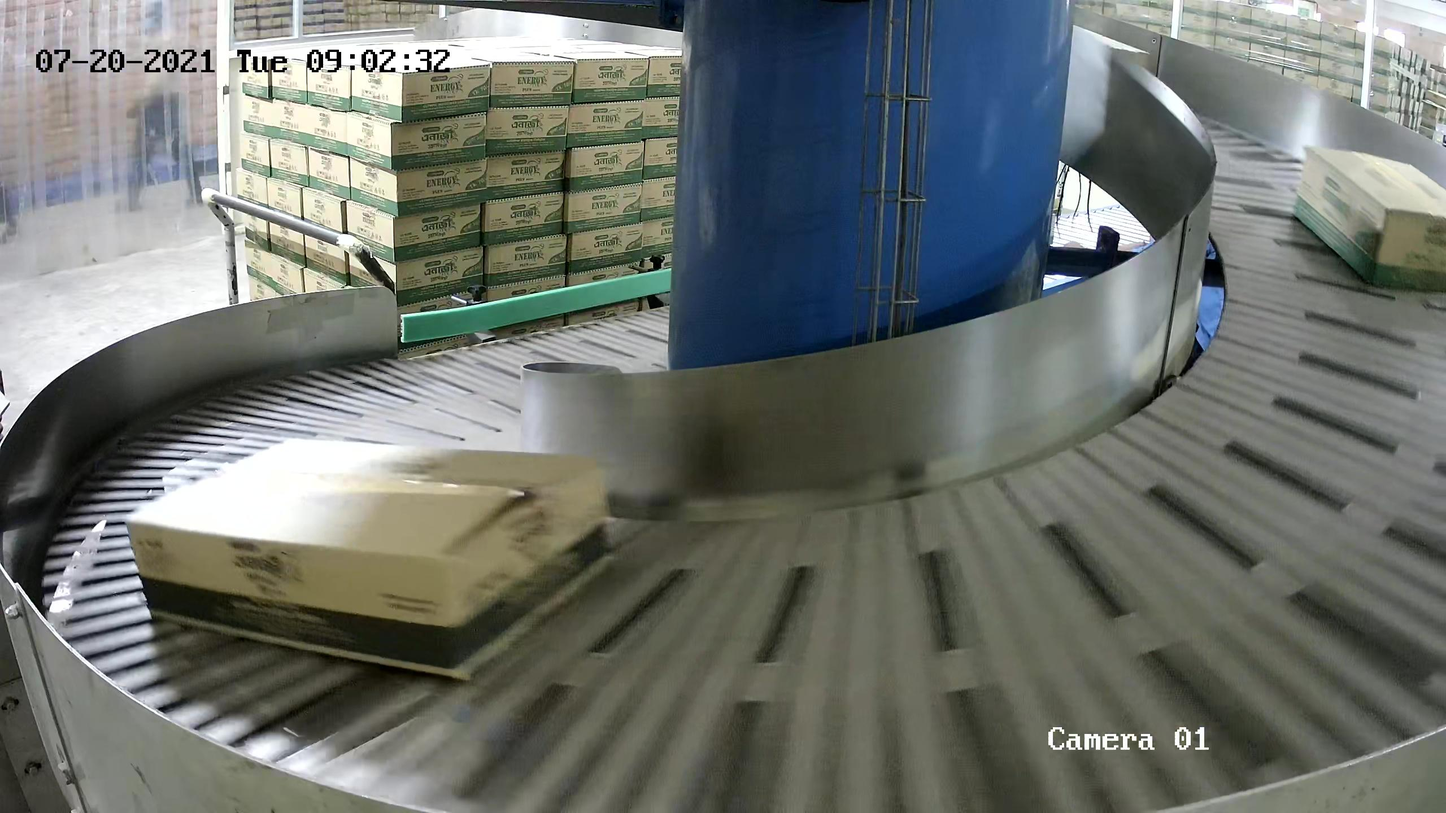Box: (126, 438, 613, 684), (1286, 144, 1446, 294)
